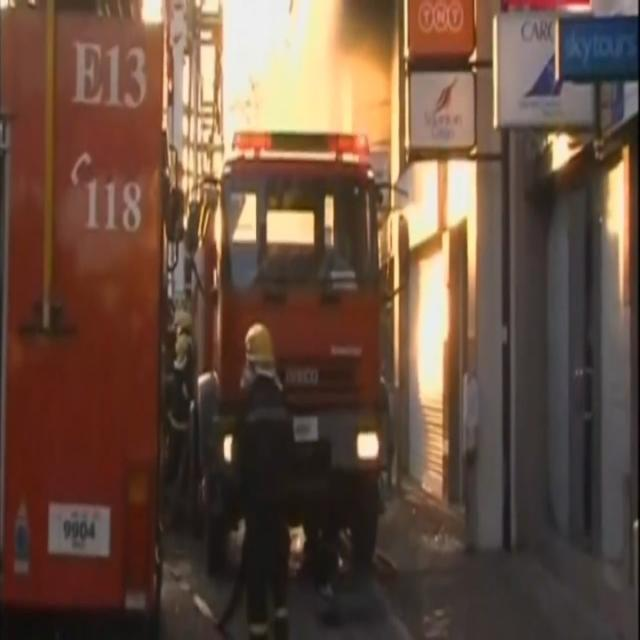Fire: (194, 0, 404, 230)
